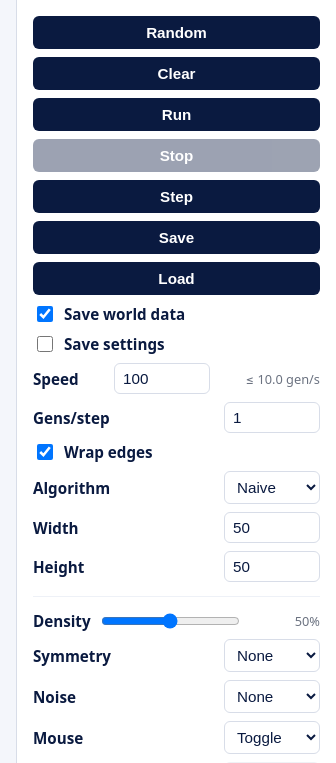
it: Game page settings › Wrap edges checkbox starts checked (Naive default) and disables under Hashlife
The width and height of the screenshot is (336, 763).
Check: the checkbox labelled "Wrap edges" is checked, box [37, 444, 53, 460]
Check: the checkbox labelled "Wrap edges" is enabled, box [37, 444, 53, 460]
// Switch to Hashlife → wrap is unchecked and disabled.
Step 1. Select "Hashlife" in the dropdown labelled "Algorithm" → (272, 488), box [224, 471, 320, 504]
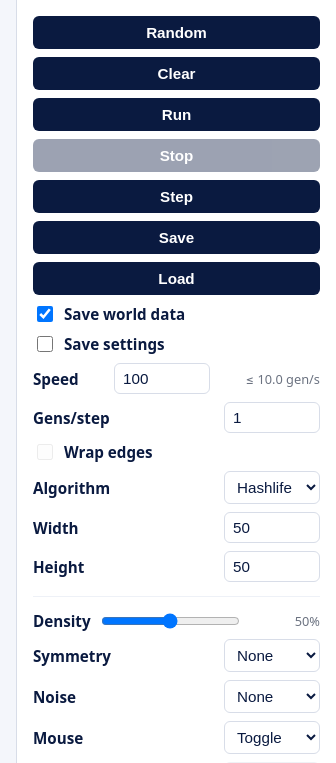
// Switch back to naive → wrap re-enabled.
Step 2. Select "Naive" in the dropdown labelled "Algorithm" → (272, 488), box [224, 471, 320, 504]
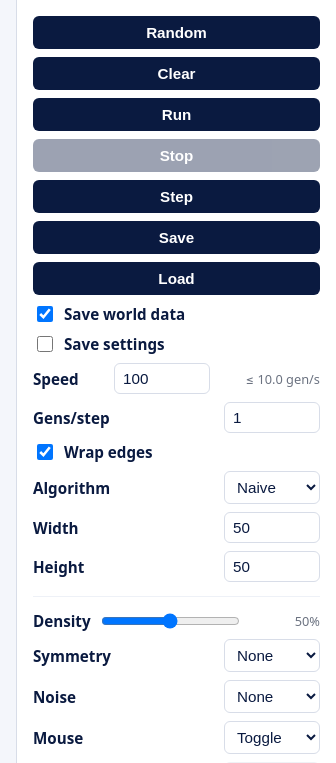
Check: the checkbox labelled "Wrap edges" is enabled, box [37, 444, 53, 460]
